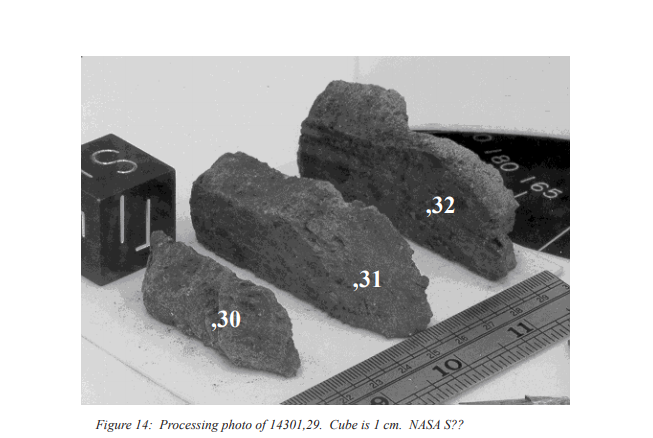Breccia: (294, 68, 560, 288), (178, 132, 452, 340), (131, 225, 328, 389)
